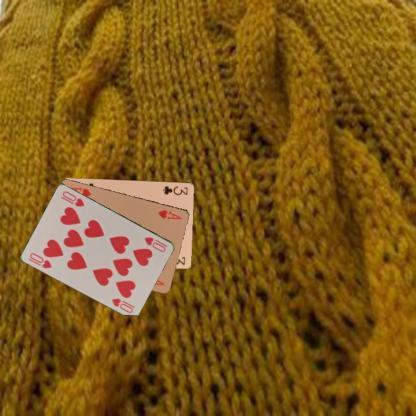10h: (142, 234, 169, 254), (27, 250, 53, 270)
3c: (160, 183, 189, 197)
Ah: (156, 207, 182, 221)
